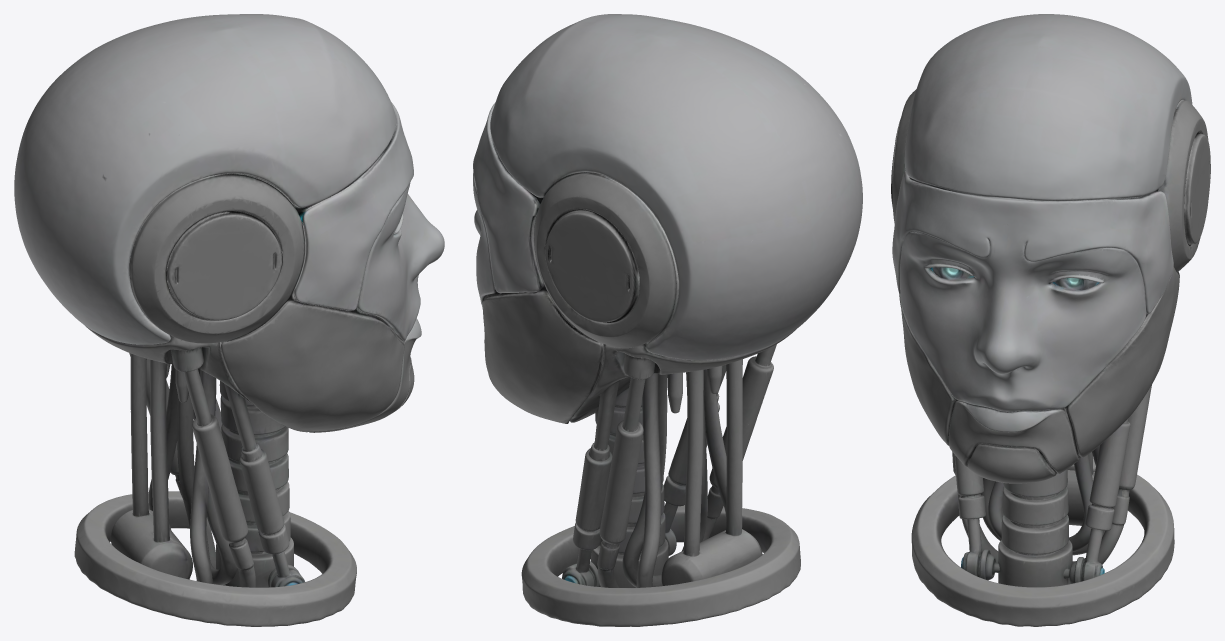
The model's file is robot-head.glb.
The picture shows the model from 3 angles, left to right: view 1: azimuth 30°, elevation 25°; view 2: azimuth 150°, elevation 25°; view 3: azimuth 270°, elevation 25°; orthographic projection. The views are drawn at different scales.
Visible parts, largest first — view 1: tripo_node_295be295-acf2-4ac3-b4be-f33098e5353b; view 2: tripo_node_295be295-acf2-4ac3-b4be-f33098e5353b; view 3: tripo_node_295be295-acf2-4ac3-b4be-f33098e5353b.
Part boxes in pixels (x1,y1,x2,y2): tripo_node_295be295-acf2-4ac3-b4be-f33098e5353b: (14, 14, 444, 626); tripo_node_295be295-acf2-4ac3-b4be-f33098e5353b: (473, 14, 862, 626); tripo_node_295be295-acf2-4ac3-b4be-f33098e5353b: (891, 14, 1210, 626).
Bounding box in the file's own units: 0.7049 × 1 × 0.5381.
Materials: 1 (1 with a texture image).
